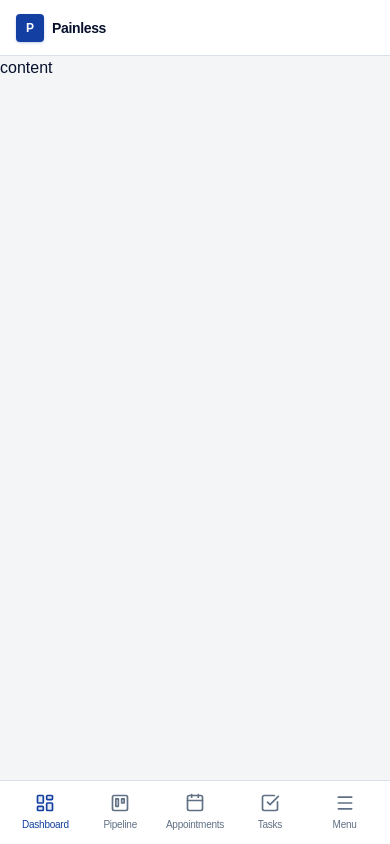
Scenario: every icon-only control keeps an accessible name › shell, including the mobile menu drawer
Click the button "Menu" at (345, 812), box [313,781,377,843]
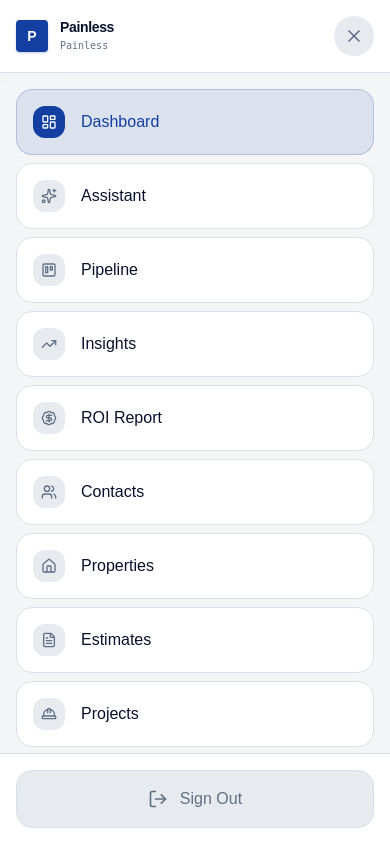
Check: the button named "Close menu" is shown, box [334,16,374,56]
